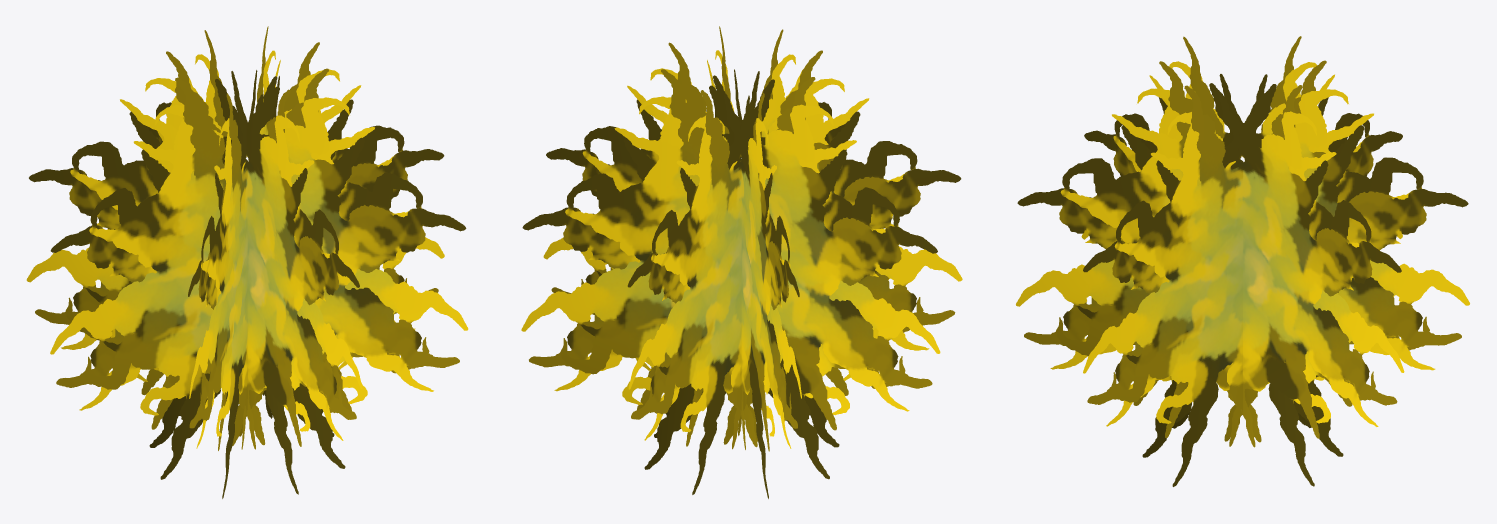
The model's file is painted-weed-054.glb.
3 renders of one model, left to right at view 1: azimuth 30°, elevation 25°; view 2: azimuth 150°, elevation 25°; view 3: azimuth 270°, elevation 25°, orthographic.
Bounding box in the file's own units: 10.29 × 9.79 × 10.29.
Materials: 1 (1 with a texture image).
